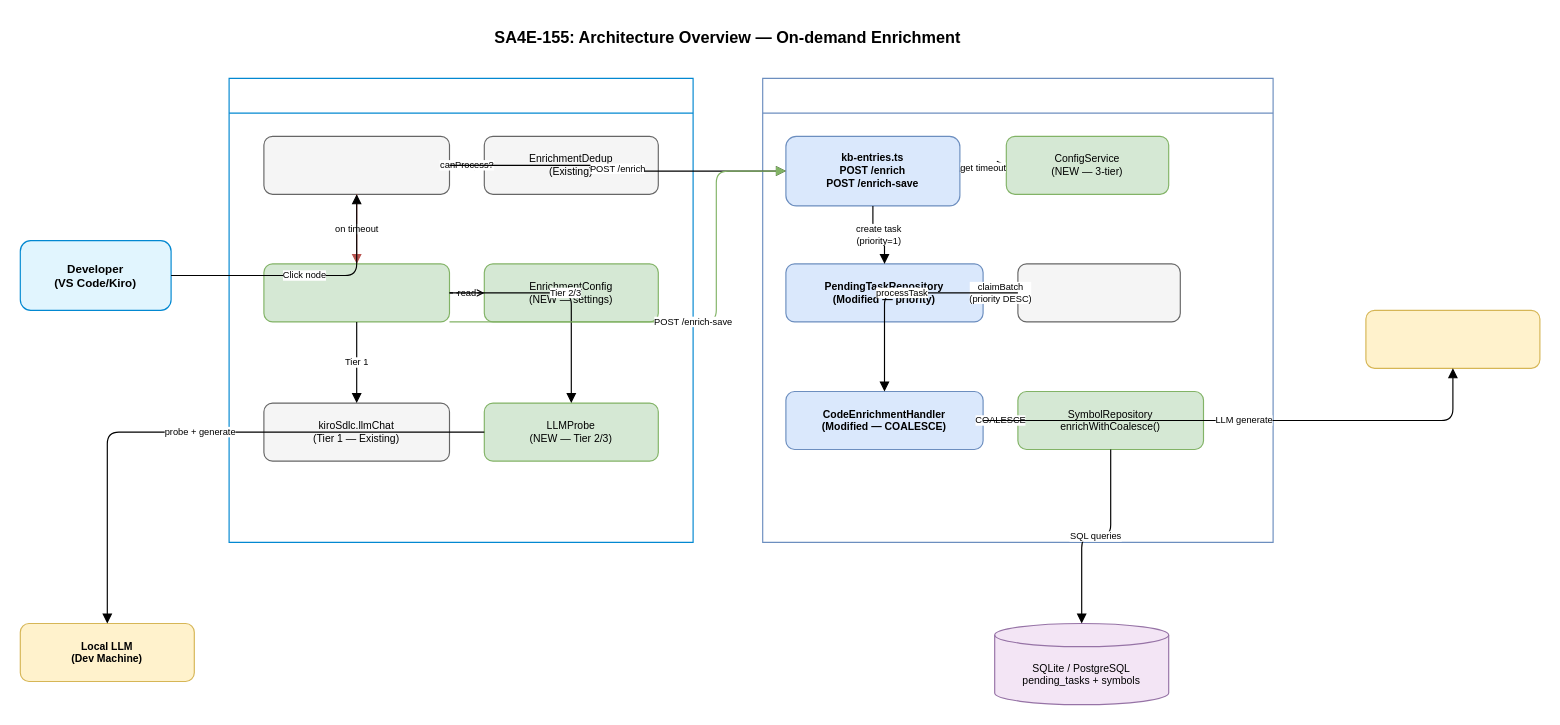
Image size: 1560x725. Some labels were removed from this diagram. The shapes that lost their labels are listed below. From the top down, each one's box as (x1, y1, x2, y2) in pixels, then its label:
(263, 135, 449, 194): GraphPanel handleEnrichCodeSymbol()
(263, 263, 449, 322): EnrichmentFallback (NEW — 3-tier chain)
(228, 77, 693, 542): Extension (VS Code/Kiro)
(762, 77, 1273, 542): Backend (Node.js + Hono)
(1017, 263, 1180, 322): TaskWorker (concurrency=6)
(1365, 309, 1540, 368): Backend LLM (Ollama/LMStudio)
